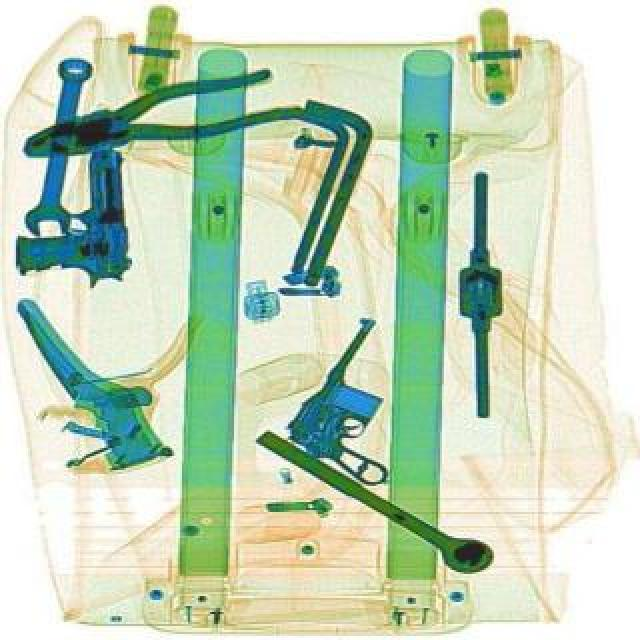gun: (278, 312, 460, 494), (4, 144, 130, 292)
scissors: (22, 54, 98, 238)
wrench: (14, 58, 300, 174)
